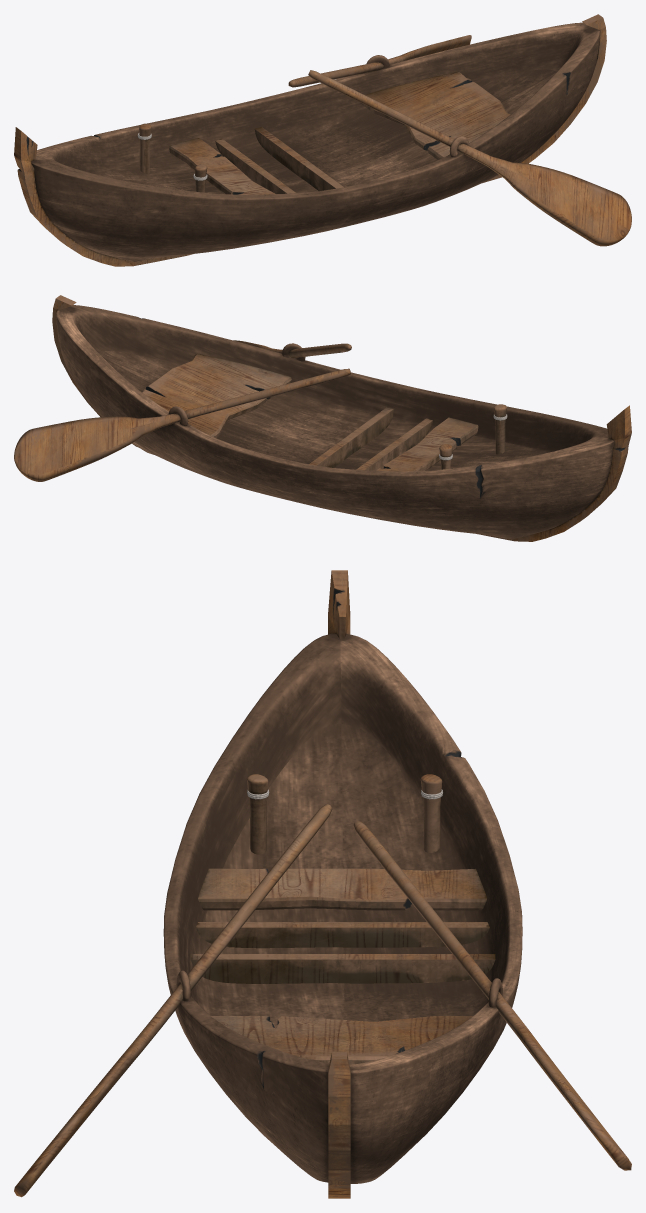
File: WoodenBoat.fbx
The picture shows the model from 3 angles, top to bottom: view 1: azimuth 30°, elevation 25°; view 2: azimuth 150°, elevation 25°; view 3: azimuth 270°, elevation 25°; orthographic projection. The views are drawn at different scales.
Visible parts, largest first — view 1: Body_Body_boat_0, A_4_A_0, polySurface4_A_0, A_1_A_0, polySurface3_A_0, polySurface1_A_0, polySurface2_A_0, polySurface5_A_0; view 2: Body_Body_boat_0, A_4_A_0, polySurface4_A_0, A_1_A_0, polySurface3_A_0, polySurface1_A_0, polySurface2_A_0, polySurface6_A_0; view 3: Body_Body_boat_0, A_4_A_0, polySurface3_A_0, polySurface1_A_0, polySurface4_A_0, polySurface2_A_0, A_1_A_0, polySurface6_A_0, polySurface5_A_0.
Part boxes in pixels (<box>): Body_Body_boat_0: <box>31,22,599,261</box>; A_4_A_0: <box>288,35,631,246</box>; polySurface4_A_0: <box>360,71,510,159</box>; A_1_A_0: <box>14,14,606,266</box>; polySurface3_A_0: <box>169,138,275,194</box>; polySurface1_A_0: <box>254,127,343,191</box>; polySurface2_A_0: <box>215,138,295,193</box>; polySurface5_A_0: <box>139,123,151,173</box>; Body_Body_boat_0: <box>56,305,614,539</box>; A_4_A_0: <box>14,340,351,481</box>; polySurface4_A_0: <box>142,353,291,438</box>; A_1_A_0: <box>52,295,631,541</box>; polySurface3_A_0: <box>376,417,478,471</box>; polySurface1_A_0: <box>309,407,394,467</box>; polySurface2_A_0: <box>356,418,432,470</box>; polySurface6_A_0: <box>493,404,506,454</box>; Body_Body_boat_0: <box>163,633,522,1183</box>; A_4_A_0: <box>14,804,631,1197</box>; polySurface3_A_0: <box>198,868,486,910</box>; polySurface1_A_0: <box>190,954,495,983</box>; polySurface4_A_0: <box>211,1016,472,1064</box>; polySurface2_A_0: <box>196,922,489,948</box>; A_1_A_0: <box>328,570,350,1198</box>; polySurface6_A_0: <box>247,774,268,854</box>; polySurface5_A_0: <box>420,774,442,852</box>.
Size of the model in its own units: 78.9 by 21.31 by 46.23.
